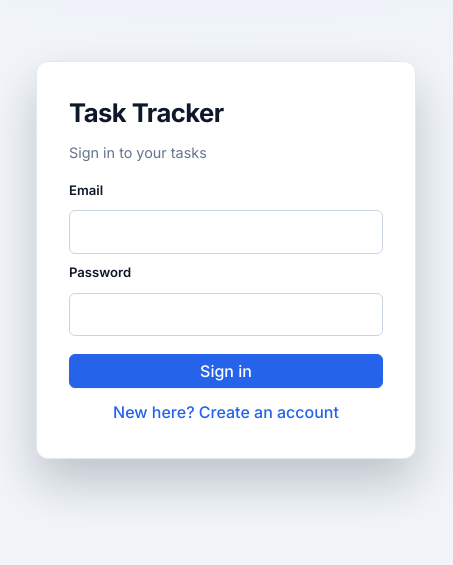
it: AuthForm › shows the API error message when login fails
Step 1. Type "me@example.com" into the field labelled "Email" → (226, 232), box [69,210,383,254]
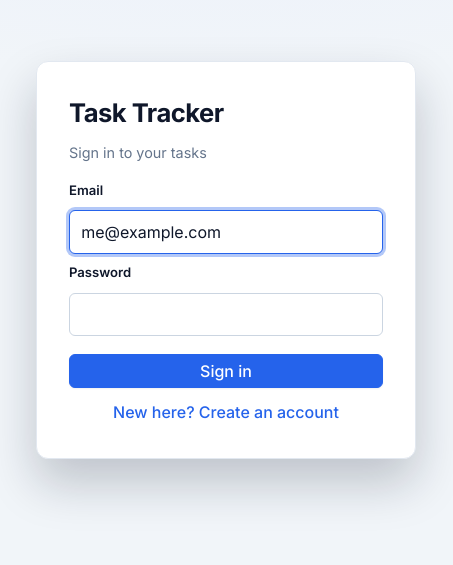
Step 2. Type "wrongpass1" into the password field labelled "Password" → (226, 314), box [69,293,383,336]
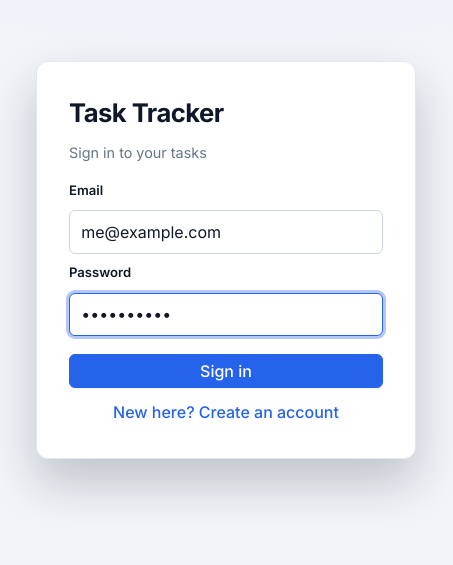
Step 3. Click the button "Sign in" → (226, 371), box [69,354,383,388]
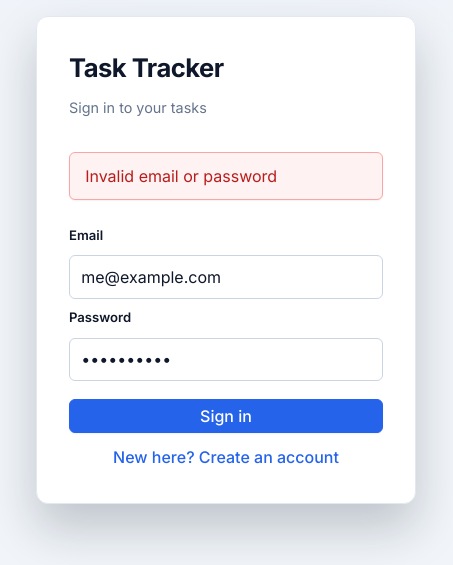
Now the text "Invalid email or password" is shown, box [69,152,383,200]
